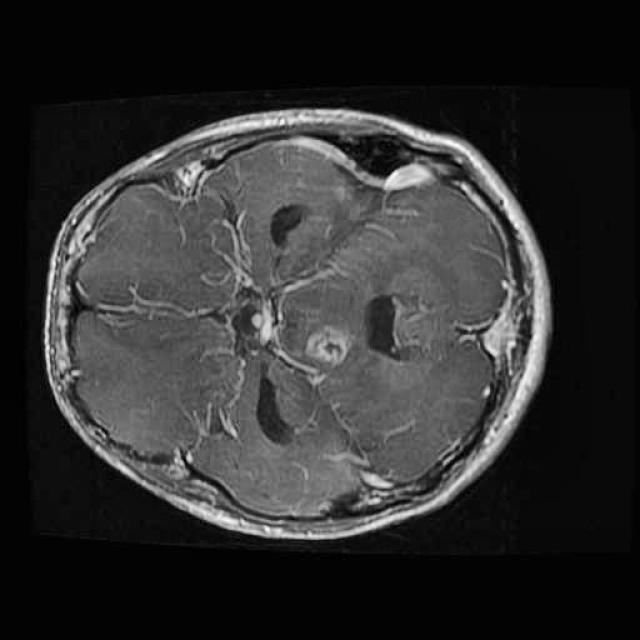Non-Tumor: (292, 310, 368, 376)
